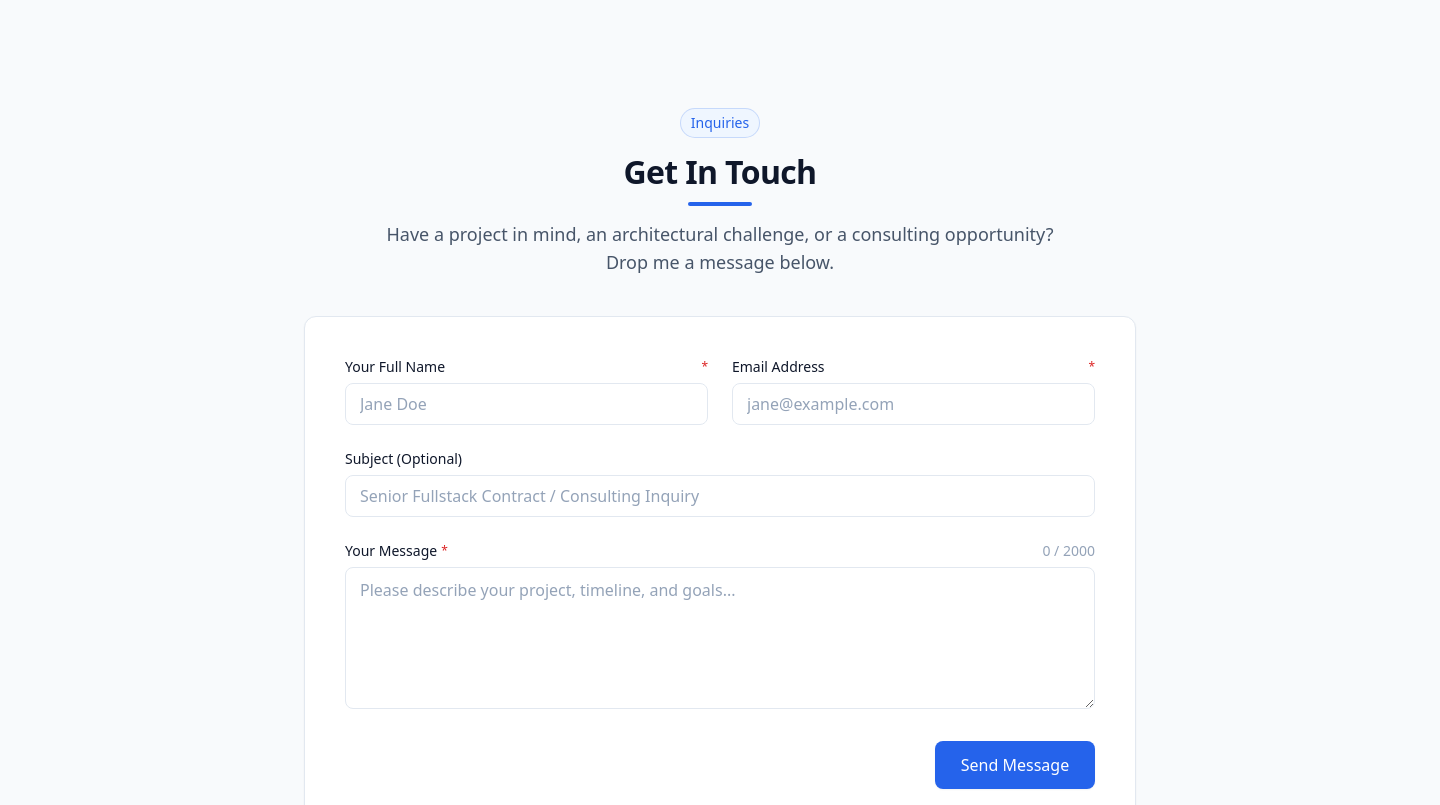
Test: Contact Form Hostile Adversarial Stress & Double-Submit Testing › 4. Error Recovery & Safe Re-submission: unlocks form on failure and allows corrected re-submission with double-submit protection
Step 1. Type "Adversarial Tester" into the field labelled "Your Full Name *" → (526, 404), box 345,383 -> 708,425
Step 2. Type "tester@hostile-security.org" into the field labelled "Email Address *" → (914, 404), box 732,383 -> 1095,425
Step 3. Type "Penetration Stress Test" into the field labelled "Subject (Optional)" → (720, 496), box 345,475 -> 1095,517
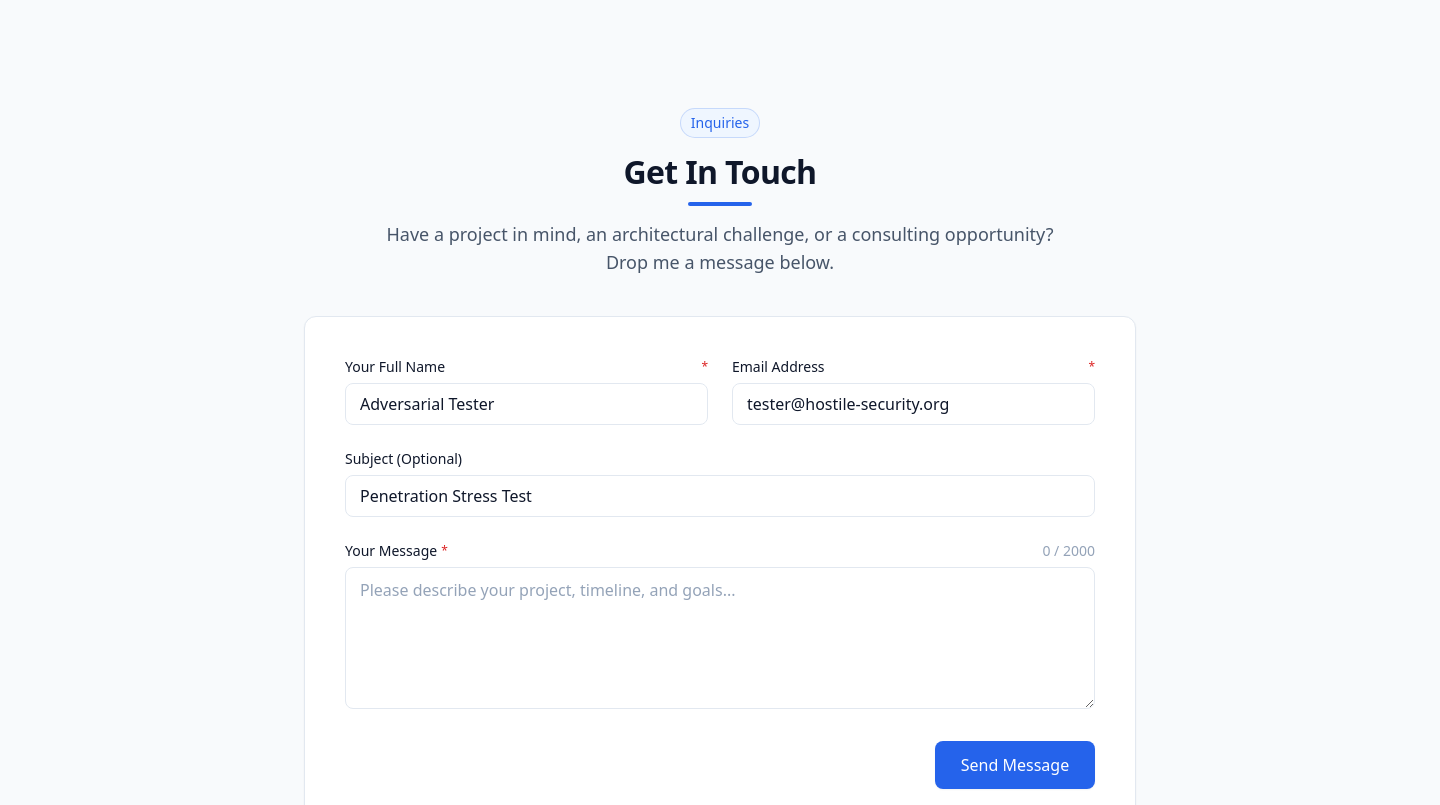
Step 4. Type "This message is sent under extreme burst conditions." into the text box labelled "Your Message *" → (720, 638), box 345,567 -> 1095,709
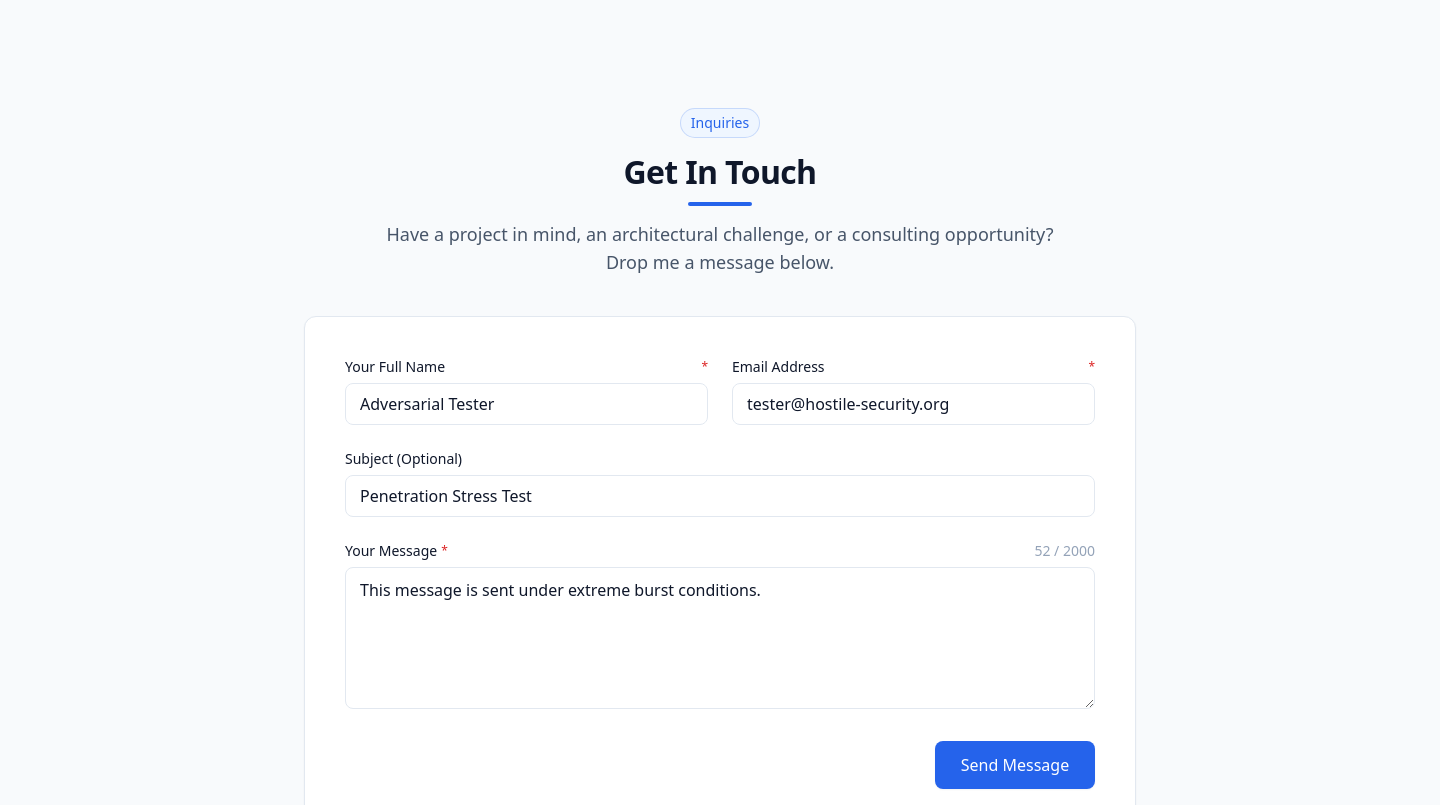
Step 5. Click the button "Send Message" → (1015, 765), box 935,741 -> 1095,789
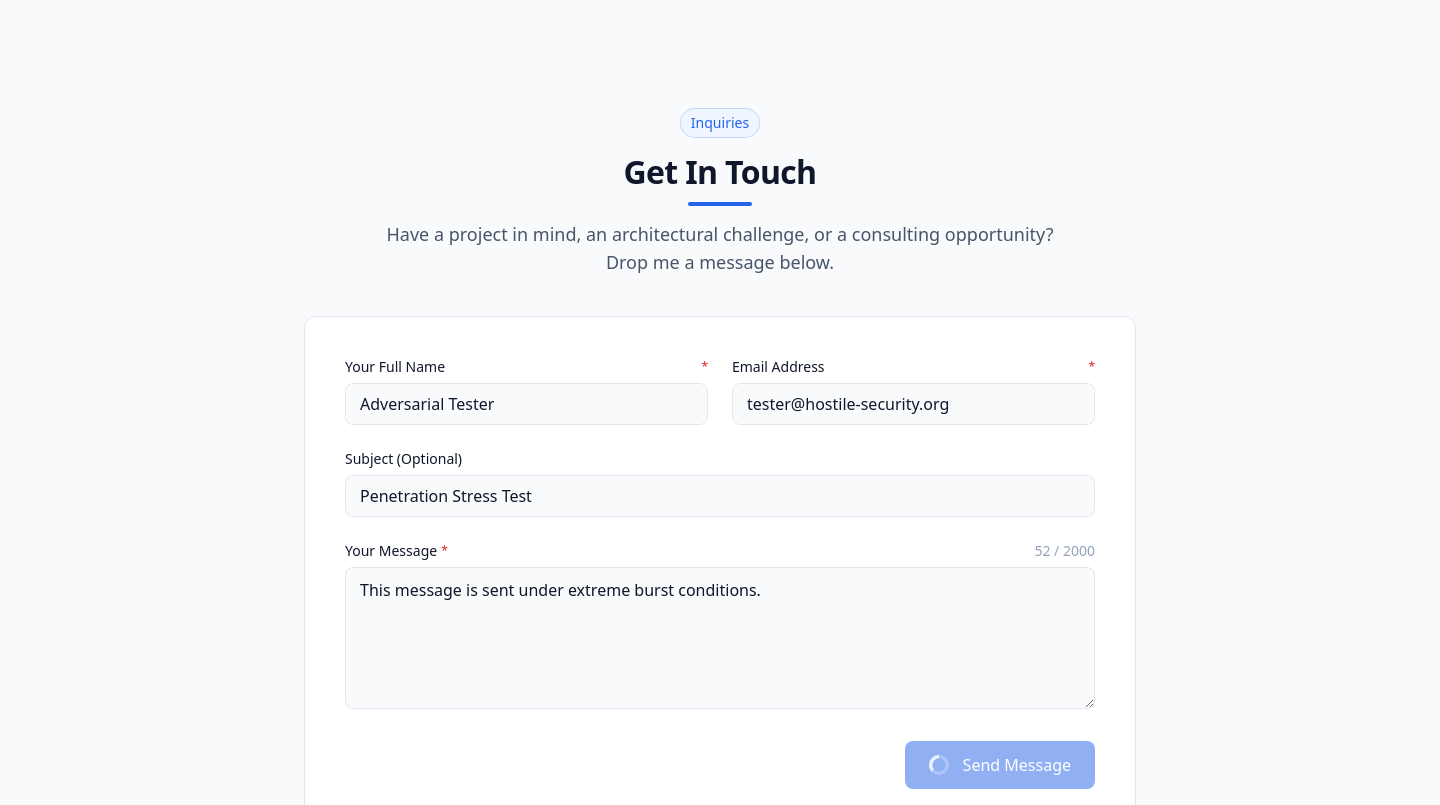
Step 6. Click the button "Send Message" → (1000, 765), box 905,741 -> 1095,789
(page scrolled)
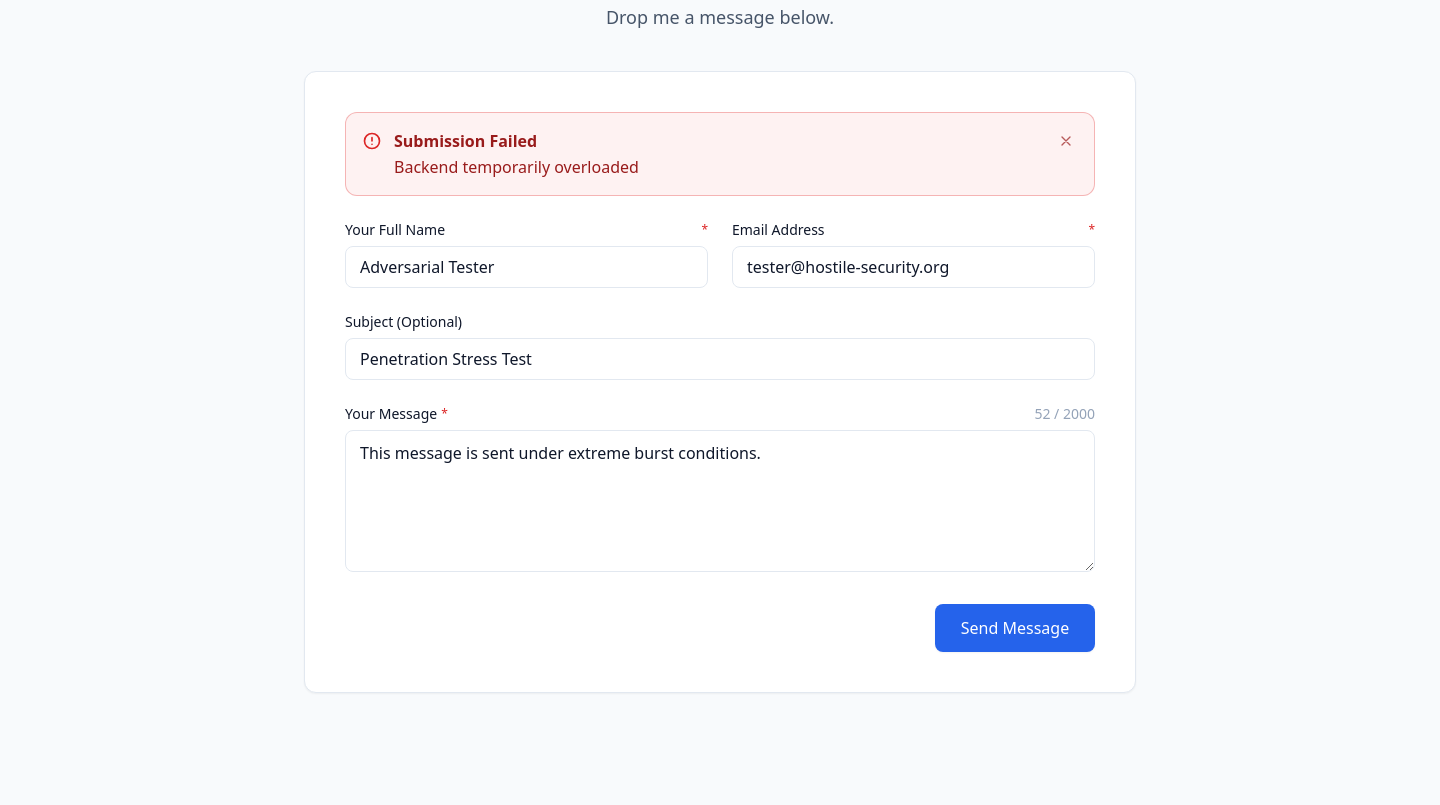
Expected: the text "Backend temporarily overloaded" is shown, 394,156 -> 639,178
Step 7. Click the button "Send Message" → (1015, 628), box 935,604 -> 1095,652
(page scrolled)
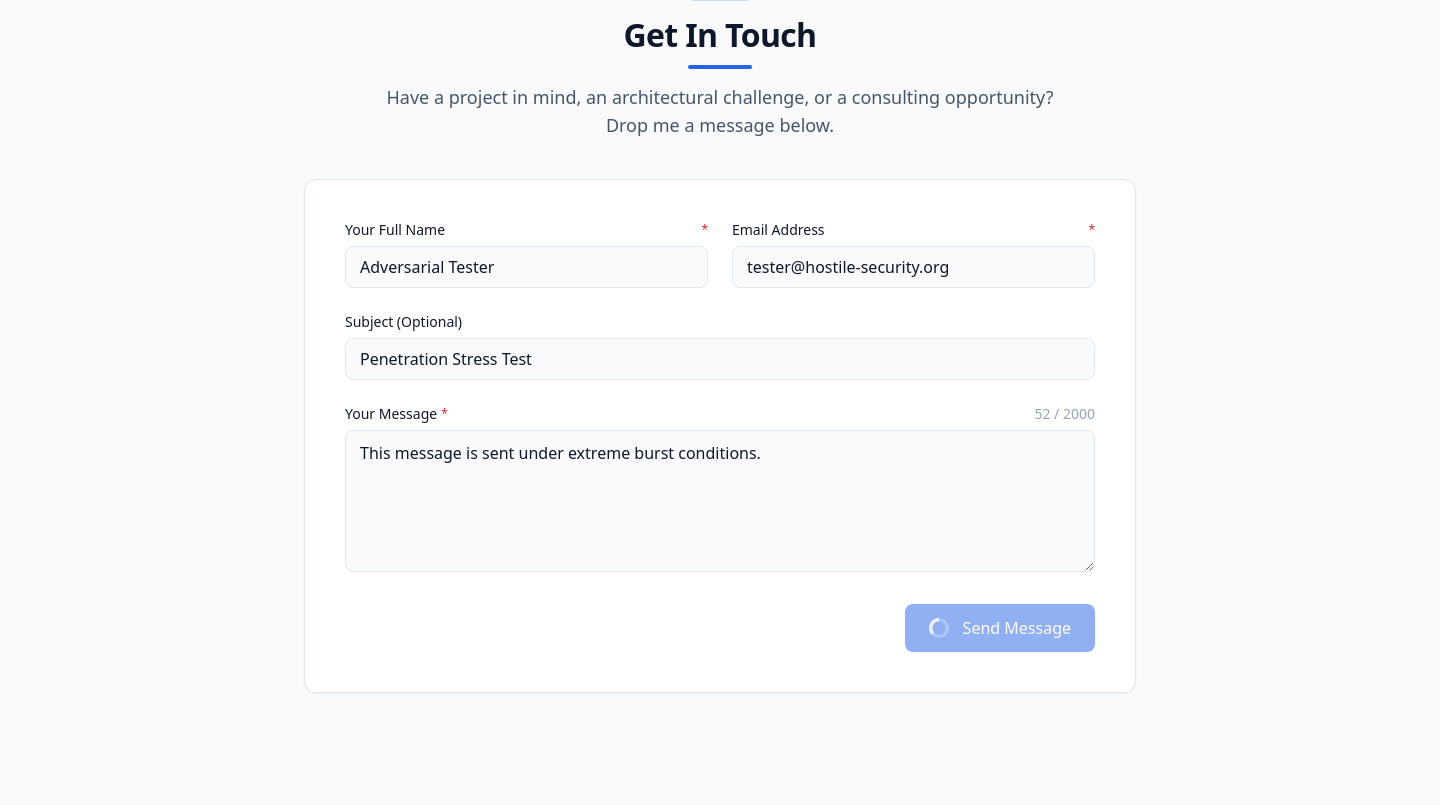
Step 8. Click the button "Send Message" → (1000, 628), box 905,604 -> 1095,652
(page scrolled)
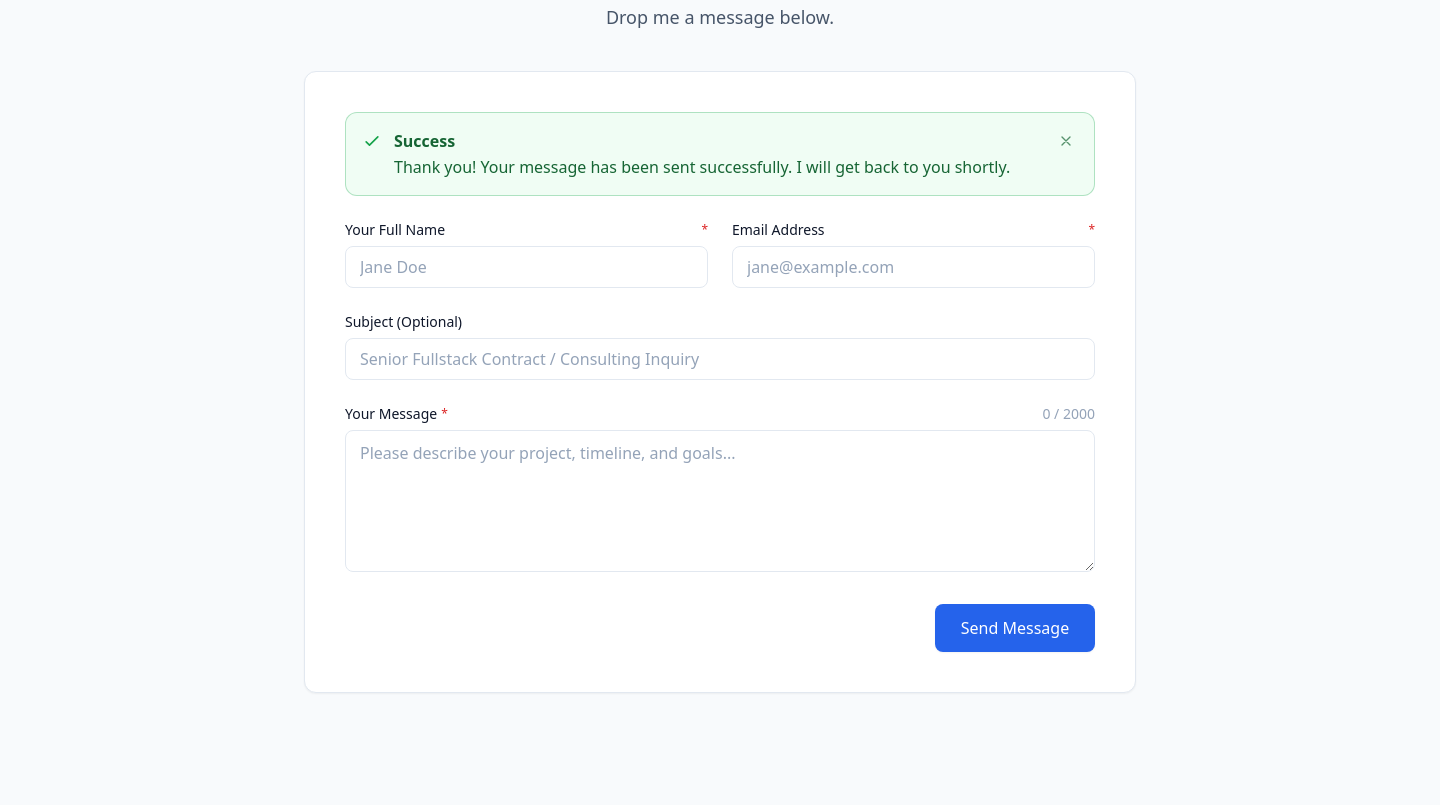
Expected: the text "Thank you! Your message has been sent successfully" is shown, 394,156 -> 1010,178
